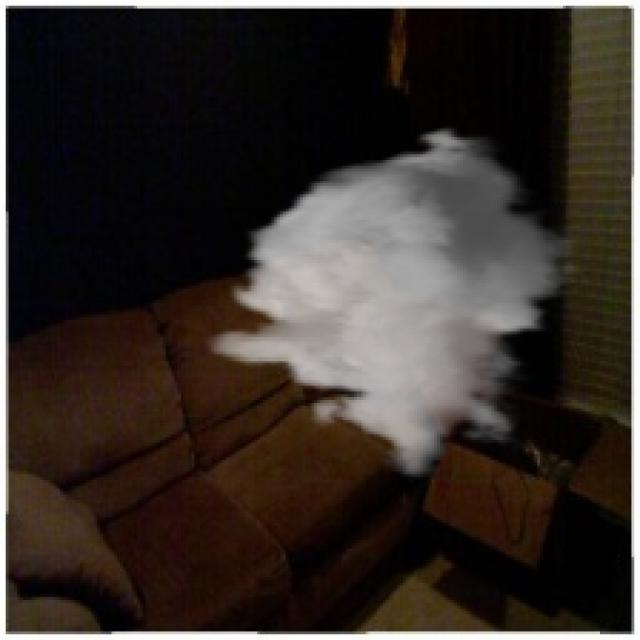smoke: (203, 126, 586, 480)
